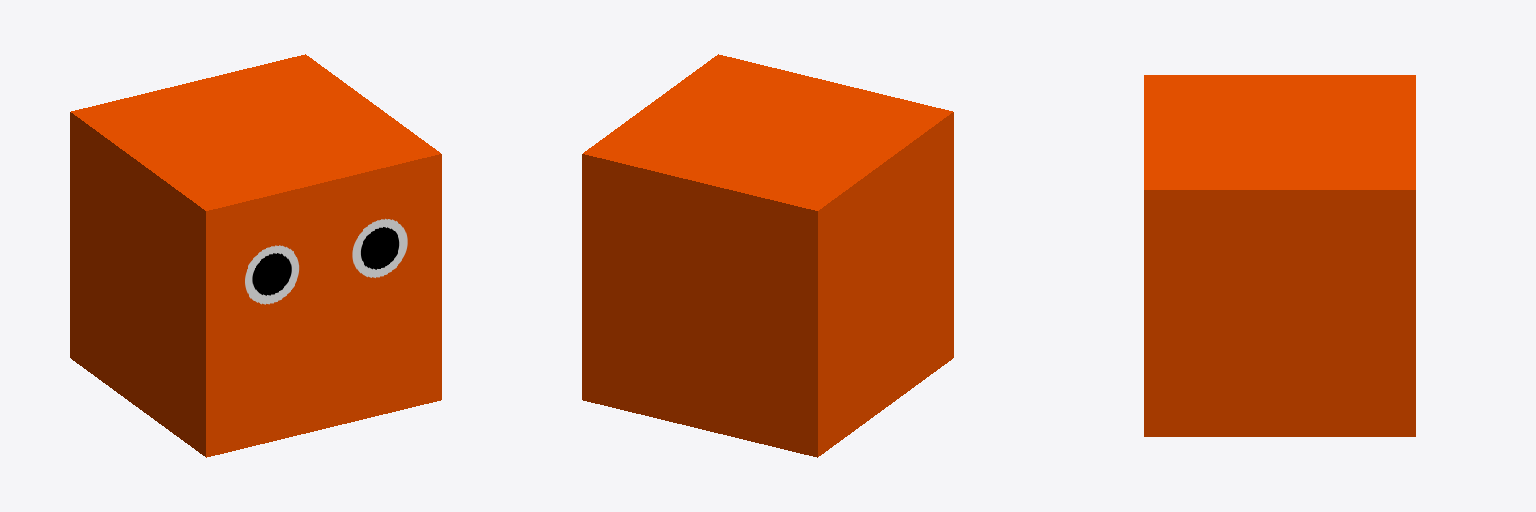
3 views of the same model, side by side, from view 1: azimuth 30°, elevation 25°; view 2: azimuth 150°, elevation 25°; view 3: azimuth 270°, elevation 25° (orthographic).
Visible parts, largest first — view 1: Cube.001; view 2: Cube.001; view 3: Cube.001.
Part boxes in pixels (bbox=[...]): Cube.001: bbox=[70, 54, 441, 457]; Cube.001: bbox=[582, 54, 953, 457]; Cube.001: bbox=[1144, 75, 1415, 436].
Bounding box in the file's own units: 0.75 × 0.75 × 0.75.
Materials: 1 (1 with a texture image).